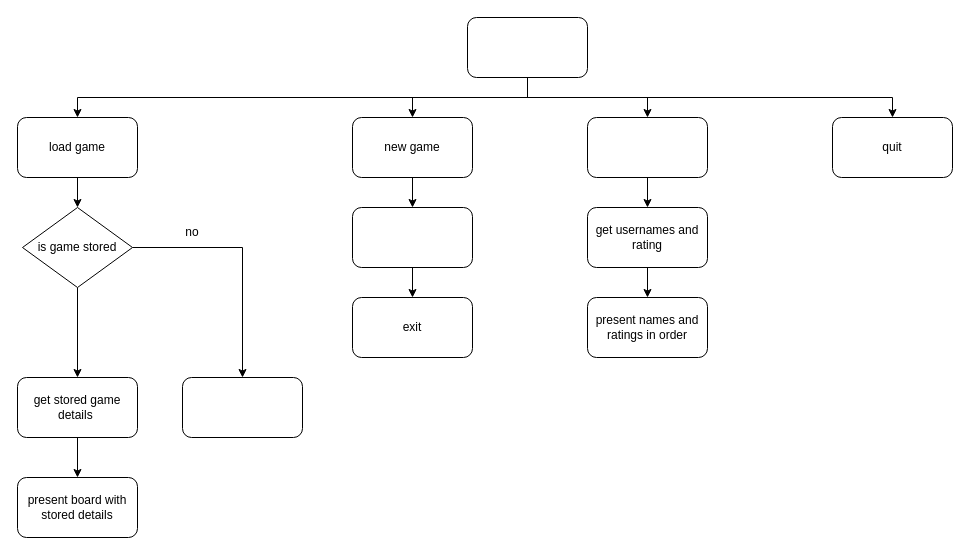
This 970x555 diagram has some shape labels left out. The centre of each missing label's shape, as x and y in pixels:
"get details" belongs at pixel 412 237.
"leaderboard" belongs at pixel 647 147.
"present message for 5 seconds" belongs at pixel 242 407.
"start" belongs at pixel 527 47.
